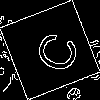C: (25, 25, 82, 77)
